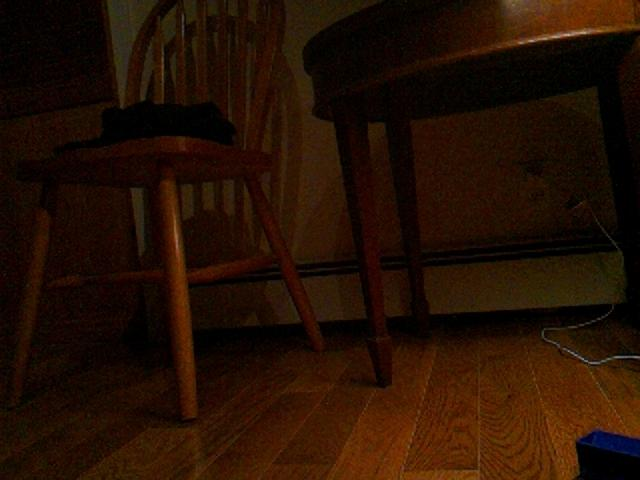blue: (574, 427, 640, 480)
